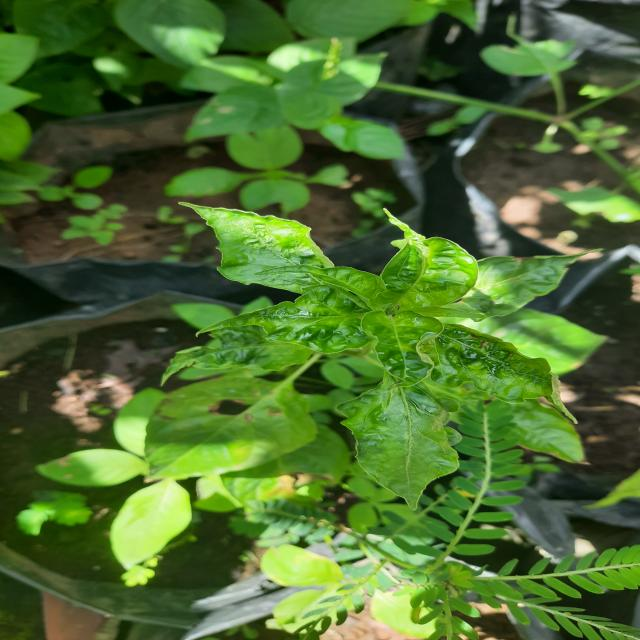thrips: (176, 290, 392, 368), (412, 325, 580, 411), (205, 202, 358, 283)
